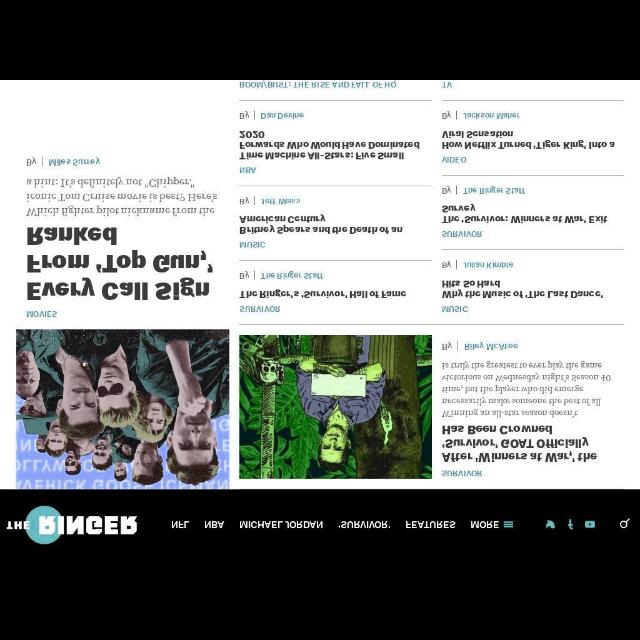icon: (618, 516, 634, 534), (542, 519, 556, 535), (562, 517, 578, 531), (584, 519, 598, 531), (504, 516, 512, 530)
image: (17, 332, 229, 491), (240, 335, 432, 479), (5, 502, 140, 548)
link: (238, 82, 396, 92), (260, 270, 328, 282), (463, 186, 529, 198), (259, 192, 301, 210), (464, 110, 526, 122), (462, 341, 522, 353), (462, 260, 516, 272), (48, 158, 102, 170), (238, 302, 284, 316), (439, 228, 486, 240), (440, 468, 484, 480), (260, 110, 308, 120), (442, 153, 468, 169), (26, 310, 58, 322), (238, 240, 268, 252), (440, 304, 470, 316), (239, 167, 259, 176), (441, 81, 457, 92)
spinner: (467, 514, 517, 536)
text: (22, 222, 218, 304), (439, 357, 615, 419), (22, 173, 220, 220), (438, 422, 602, 466), (236, 128, 422, 162), (442, 127, 618, 153), (238, 212, 408, 238), (442, 202, 608, 228), (440, 277, 604, 299), (238, 286, 410, 304), (22, 153, 108, 175), (240, 266, 330, 286), (443, 105, 531, 124), (441, 339, 527, 357), (442, 183, 532, 200), (441, 257, 522, 273), (236, 108, 312, 125), (238, 518, 324, 532), (239, 194, 305, 210), (404, 518, 460, 532), (334, 518, 392, 530), (169, 518, 191, 534), (471, 520, 499, 530), (204, 520, 224, 532)
toolbar: (2, 492, 638, 558)
